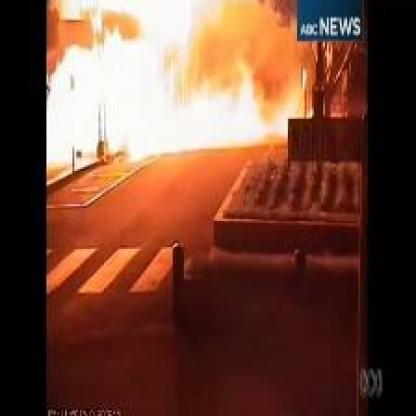fire: (48, 2, 292, 163)
